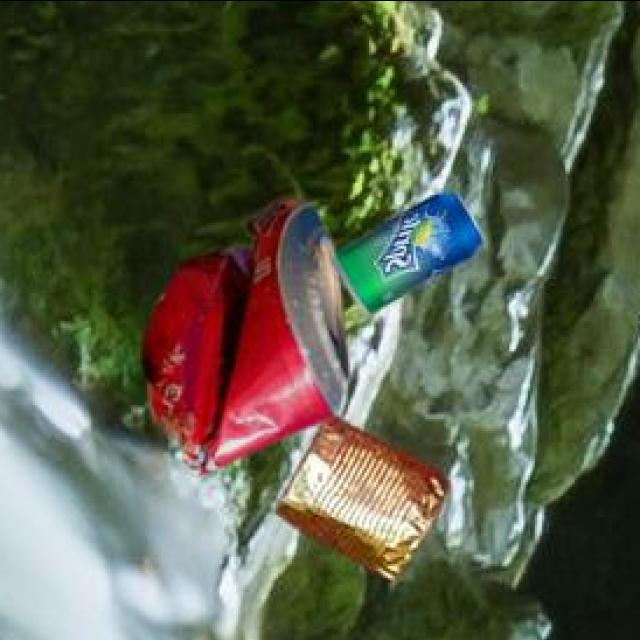logam: (146, 197, 352, 478), (281, 419, 452, 580), (338, 195, 487, 316)
